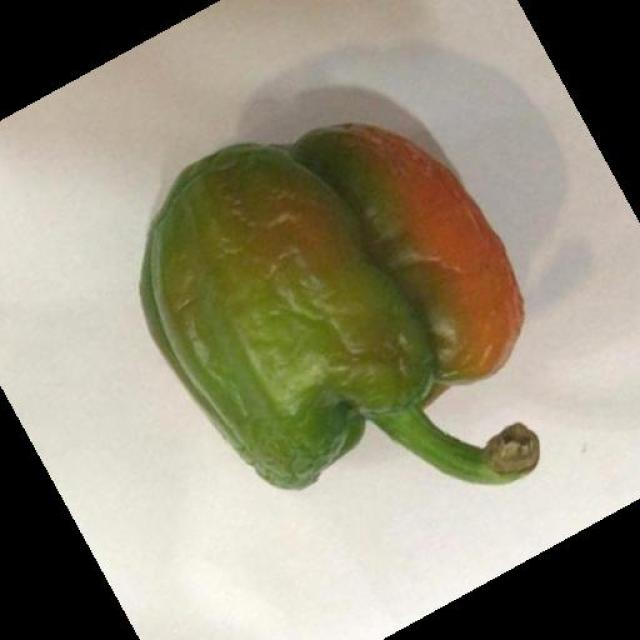Stale_Capsicum: (142, 128, 557, 497)
